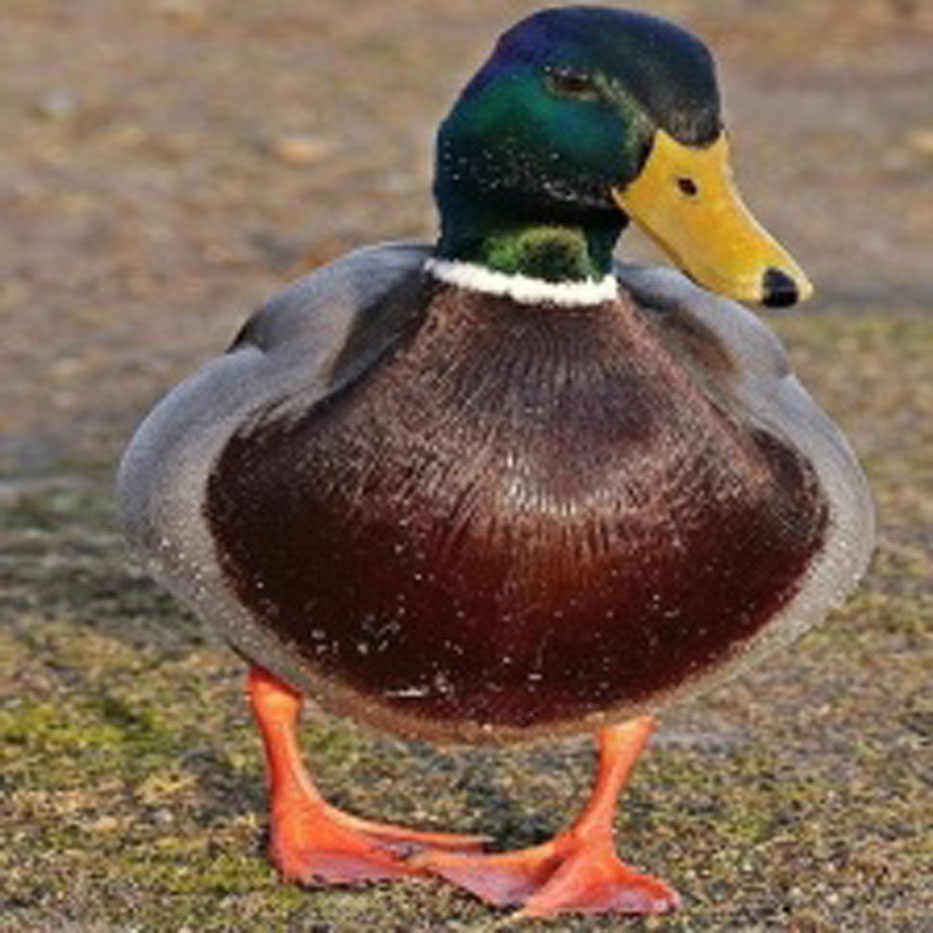Mencari Makan di Lumpur: (621, 132, 830, 334)
